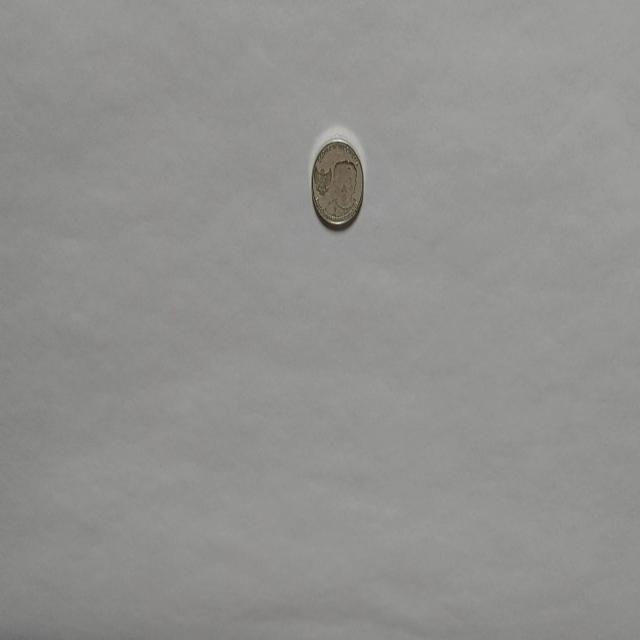seratus rupiah: (311, 137, 364, 230)
